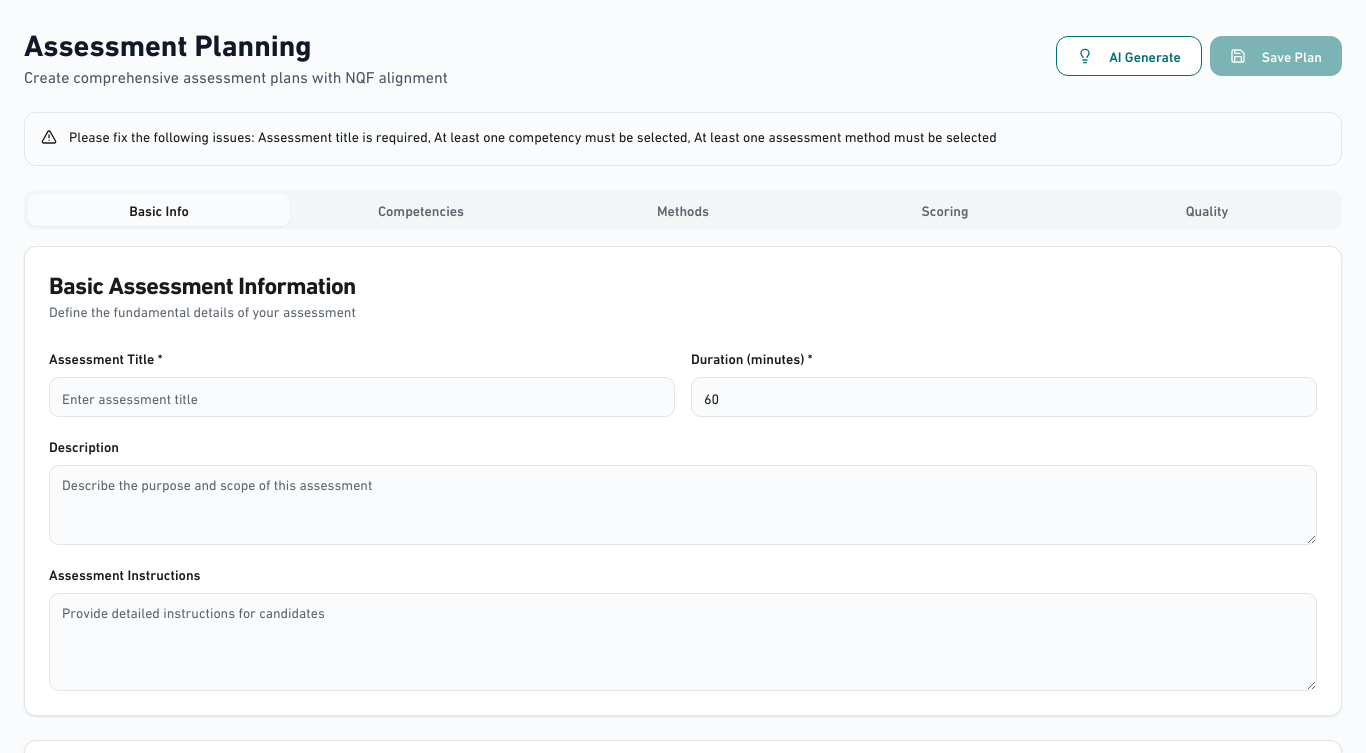
Test: Assessor Persona Frontend Components › AssessmentPlanning › renders assessment planning form
The width and height of the screenshot is (1366, 753).
Expected: the field labelled "Assessment Title *" is shown, [49,377,675,417]
Step 1. Click the tab "Competencies" → x=421, y=210, box [290,194,552,226]
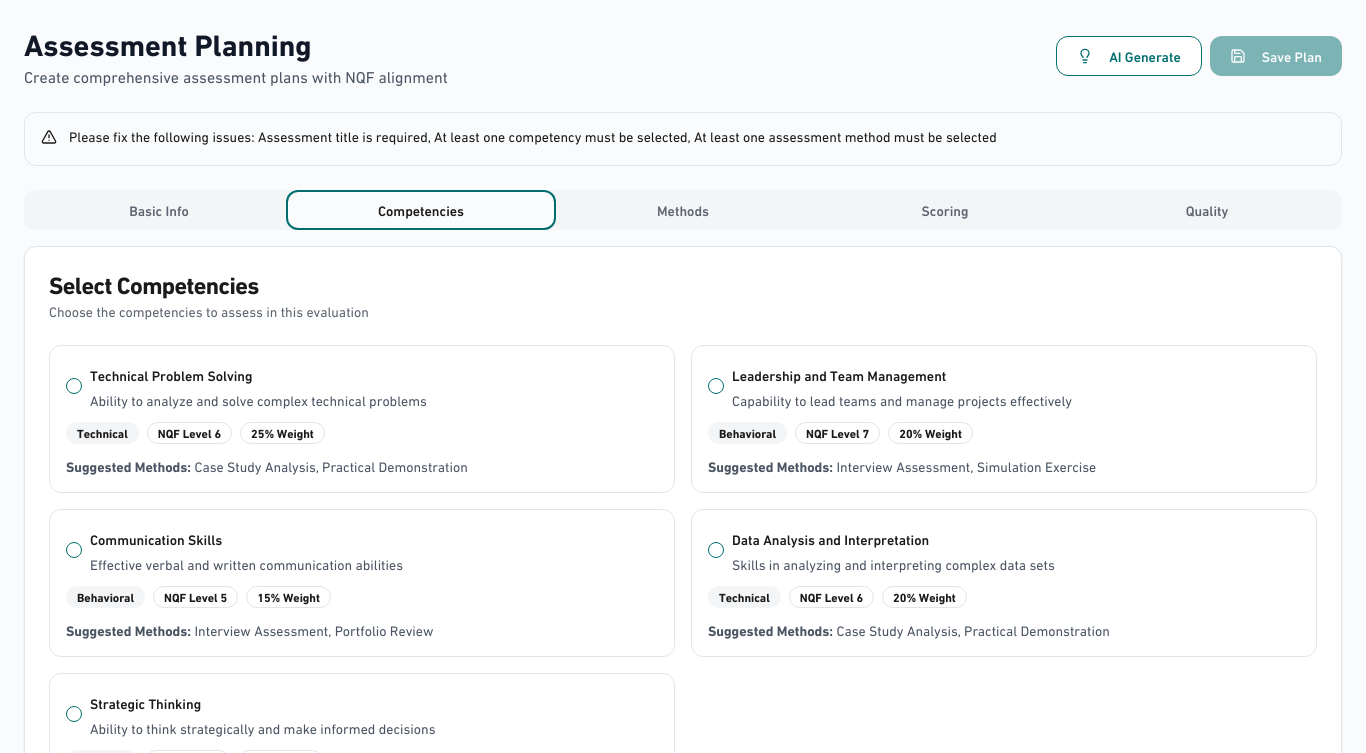
Now the heading "Select Competencies" is shown, box [49,265,259,300]
